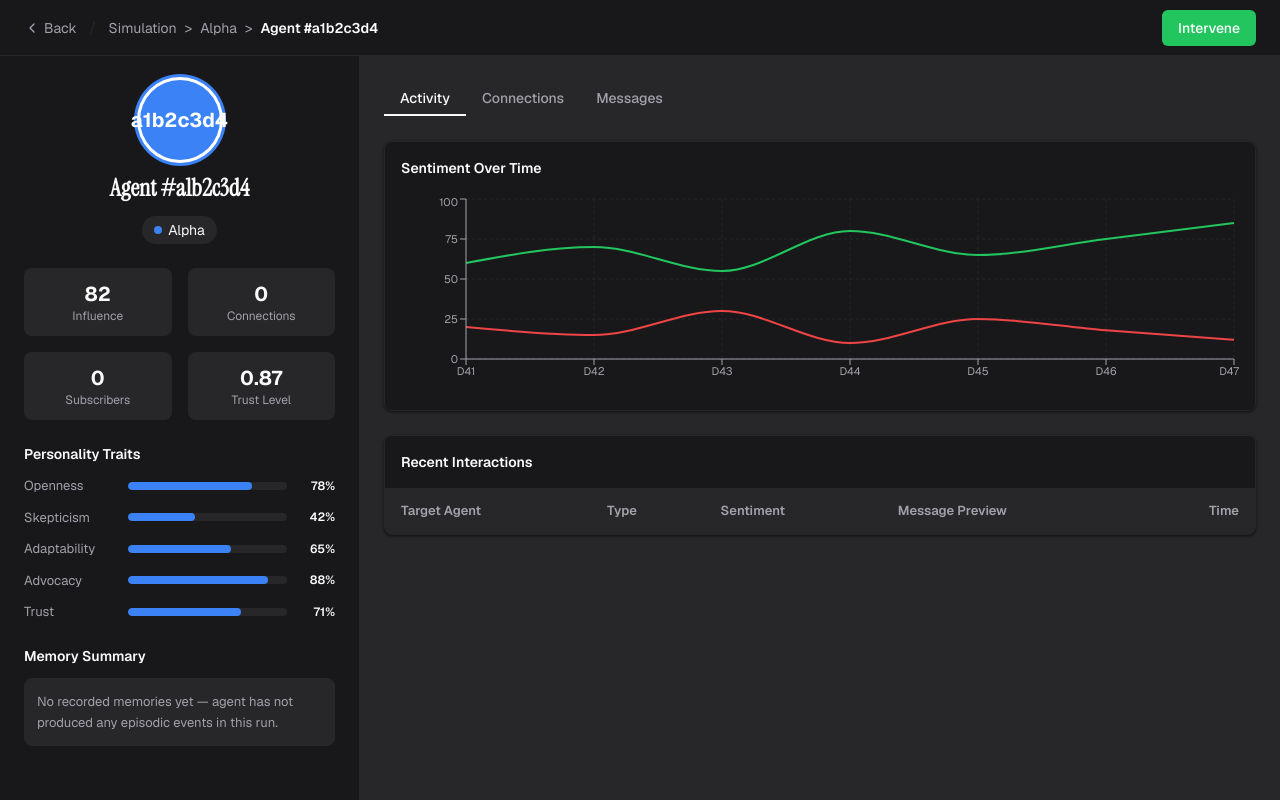
AgentDetail (UI-04) › Intervention Modal › opens intervention modal when Intervene button is clicked
Expected: the text "Agent #a1b2c3d4" is shown, [260,18,378,38]
Click the button "Intervene" at (1209, 28), box [1162,10,1256,46]
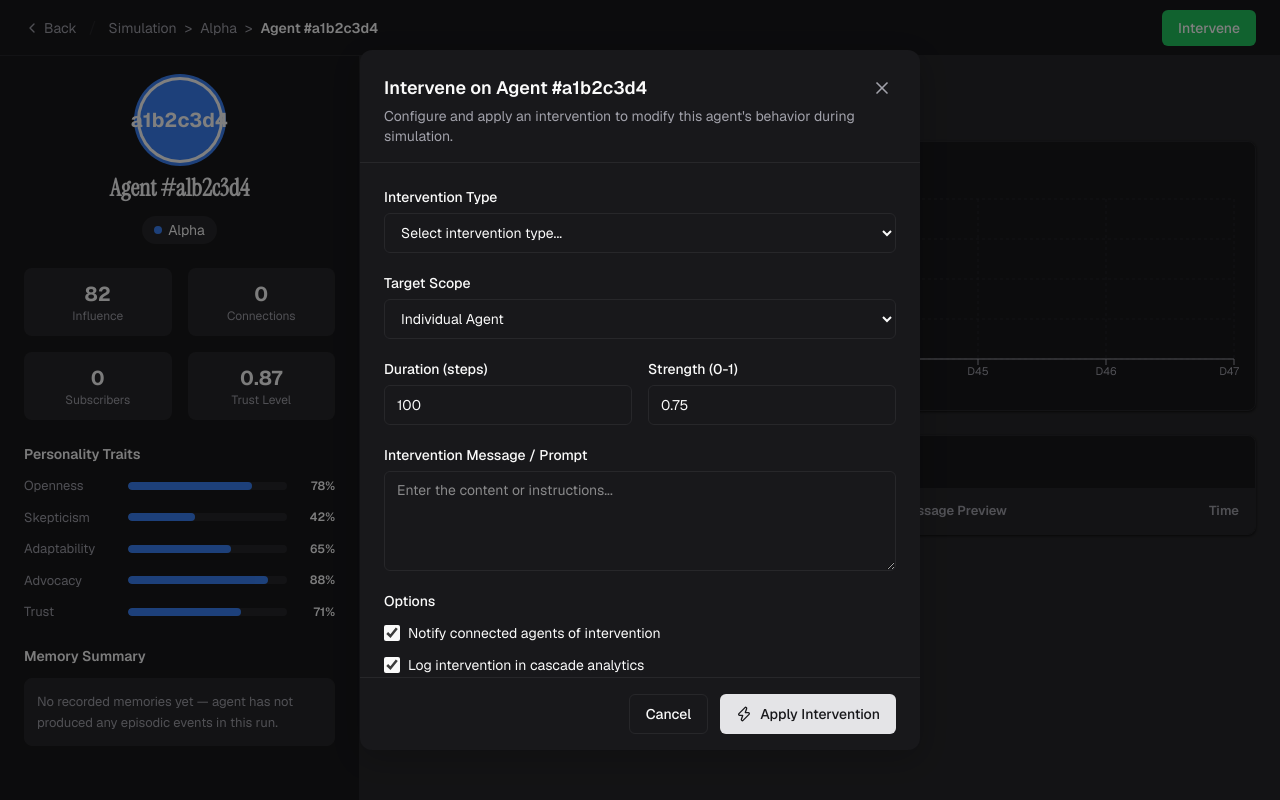
Expected: the dialog with test id "intervention-modal" is shown
